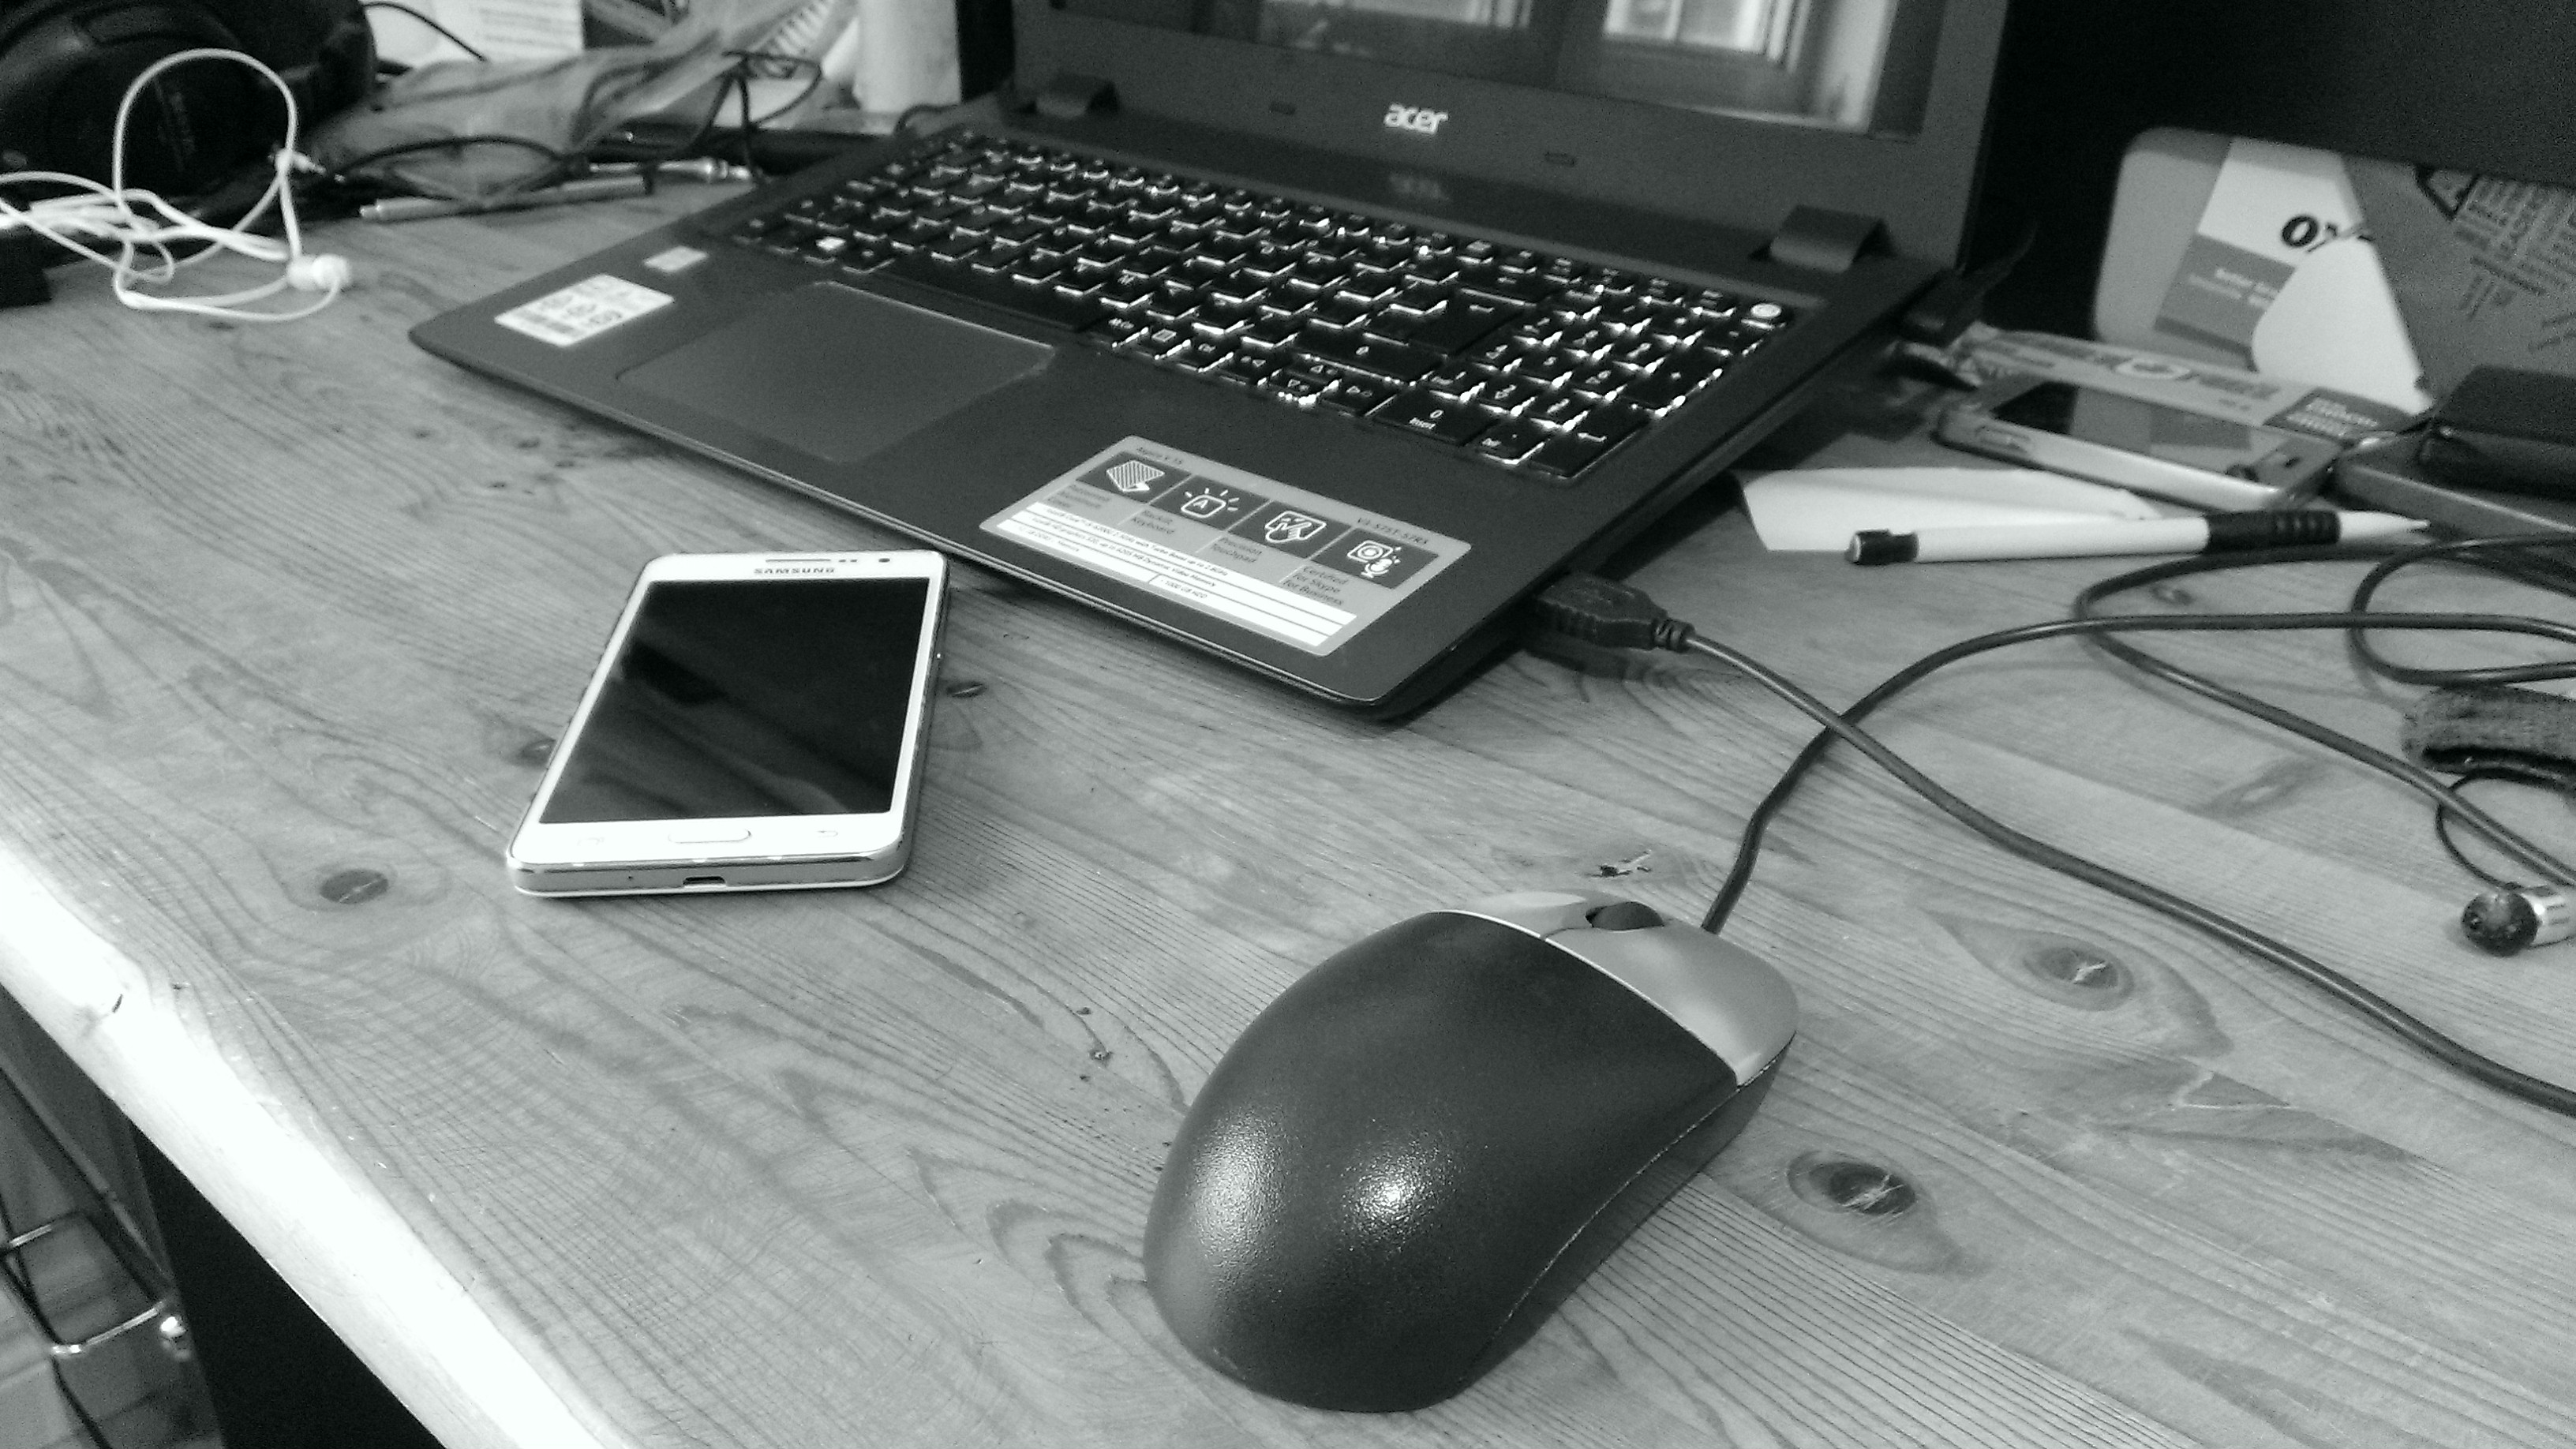keyboard: (662, 85, 1828, 495)
mouse: (1086, 793, 1858, 1428)
